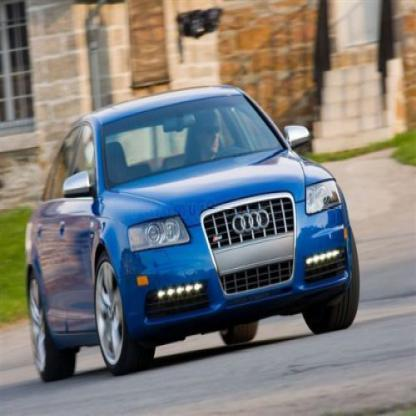car: (26, 86, 362, 386)
